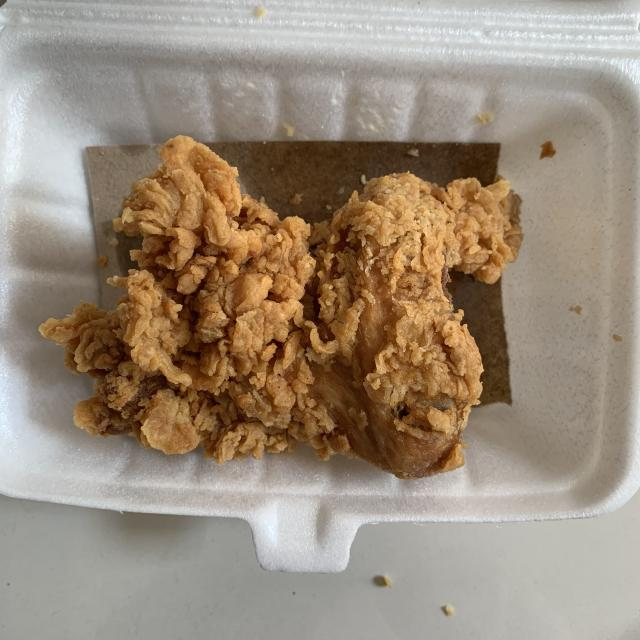Frango: (45, 138, 524, 480)
